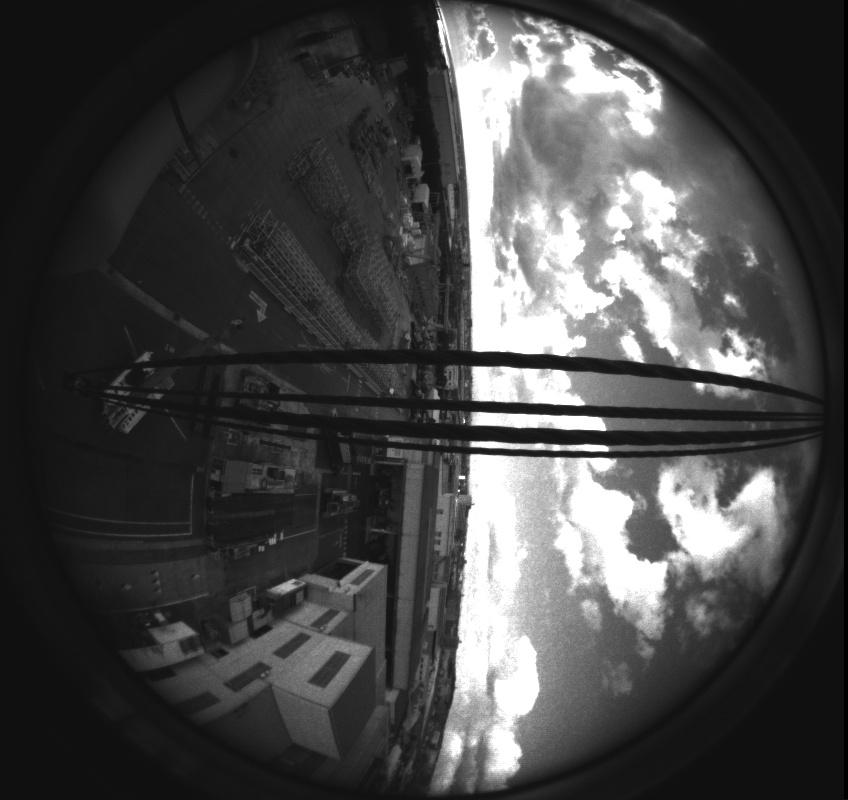rope: (9, 339, 847, 466)
